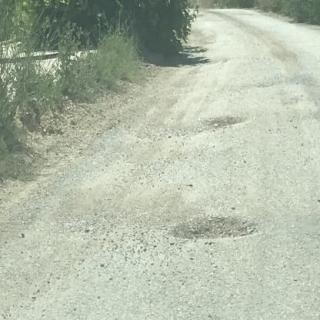pothole: (168, 215, 259, 242), (198, 115, 251, 132)
